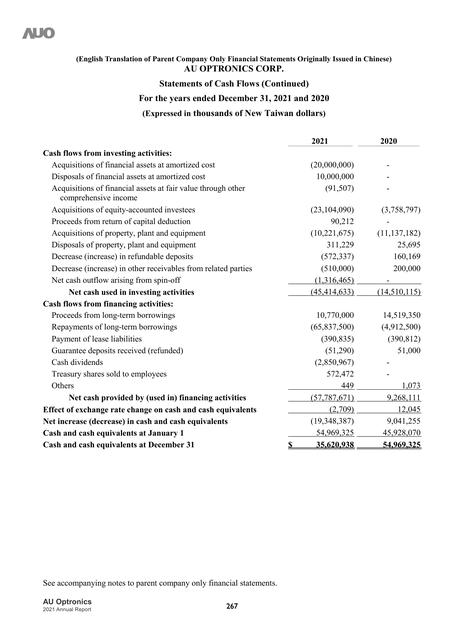box: (40, 137, 424, 451)
